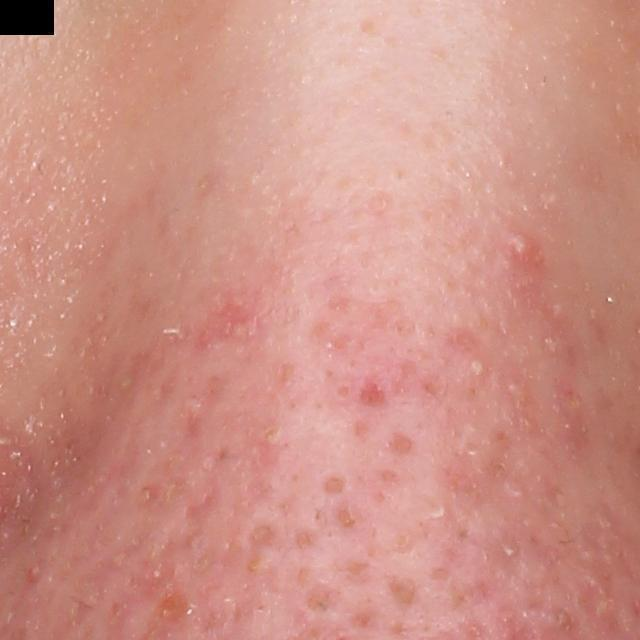pustule: (468, 354, 487, 377)
